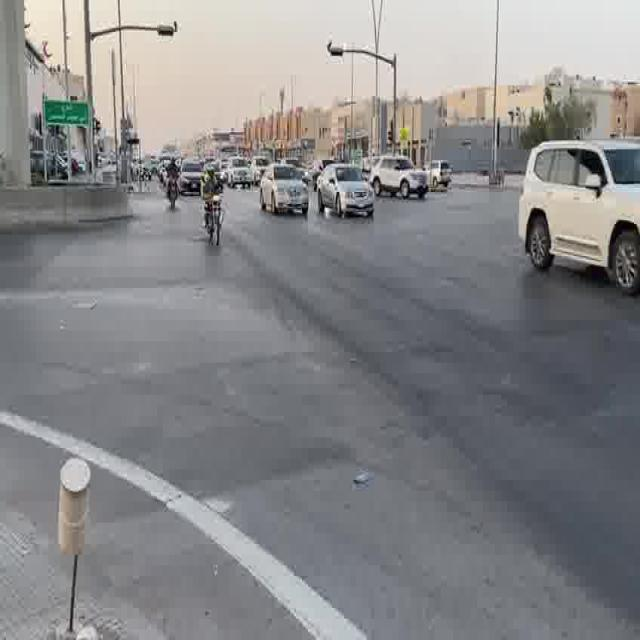bicycle: (202, 193, 225, 247)
bus: (316, 164, 375, 218), (260, 167, 310, 215), (179, 159, 206, 193), (228, 158, 254, 188)
car: (179, 209, 640, 640), (316, 164, 375, 218), (260, 167, 310, 215), (179, 159, 206, 193), (228, 158, 254, 188)
lanes: (179, 209, 640, 640), (226, 209, 639, 634), (202, 193, 225, 247)
lanes2: (226, 209, 639, 634), (260, 205, 640, 474)
lanes3: (260, 205, 640, 474), (286, 201, 640, 404)
lanes4: (286, 201, 640, 404), (327, 192, 640, 313)
lanes5: (327, 192, 640, 313)
motorbike: (519, 137, 640, 295), (367, 155, 429, 200), (427, 159, 452, 191)
truck: (519, 137, 640, 295), (367, 155, 429, 200), (427, 159, 452, 191)
